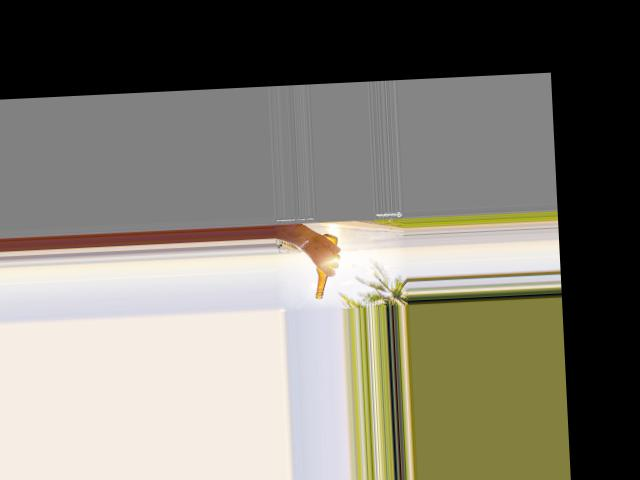beer: (311, 232, 339, 298)
